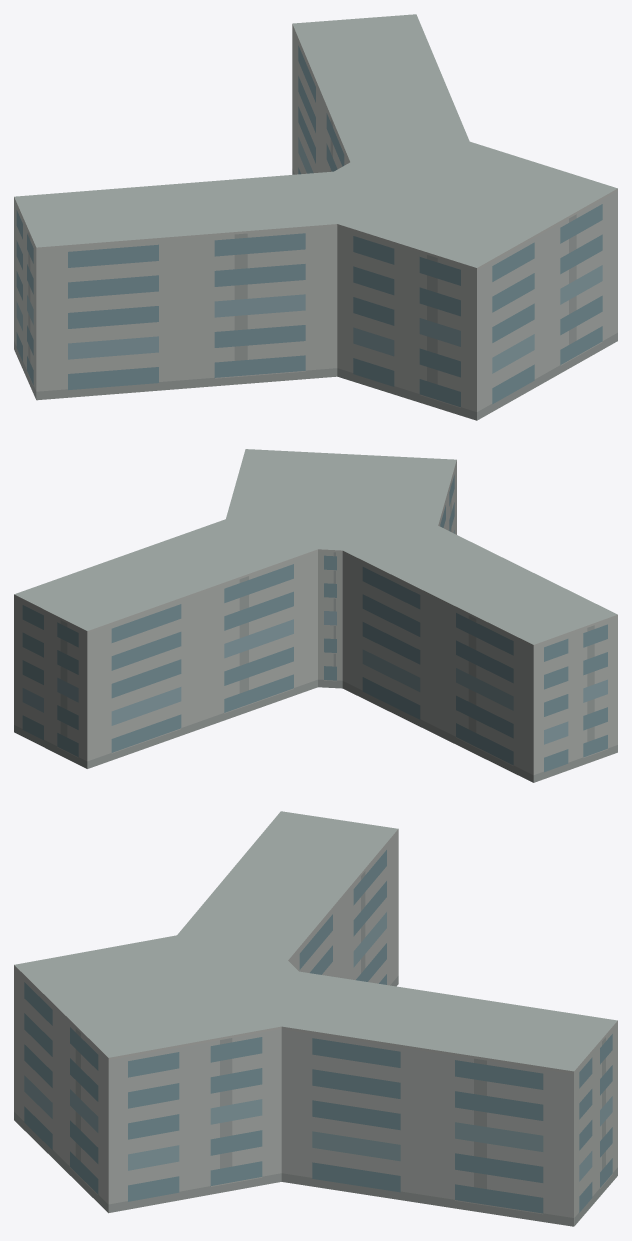
The model's file is residential-7036aee3-943c-4935-9155-bc044204b7b0.glb.
3 renders of one model, top to bottom at view 1: azimuth 30°, elevation 25°; view 2: azimuth 150°, elevation 25°; view 3: azimuth 270°, elevation 25°, orthographic. The views are drawn at different scales.
Parts seen in each view (by area): view 1: residential-7036aee3-943c-4935-9155-bc044204b7b0.tmp; view 2: residential-7036aee3-943c-4935-9155-bc044204b7b0.tmp; view 3: residential-7036aee3-943c-4935-9155-bc044204b7b0.tmp.
Part boxes in pixels (bbox=[...]): residential-7036aee3-943c-4935-9155-bc044204b7b0.tmp: bbox=[14, 14, 617, 420]; residential-7036aee3-943c-4935-9155-bc044204b7b0.tmp: bbox=[14, 449, 617, 782]; residential-7036aee3-943c-4935-9155-bc044204b7b0.tmp: bbox=[14, 811, 617, 1226].
Bounding box in the file's own units: 54.81 × 15.25 × 53.75.
